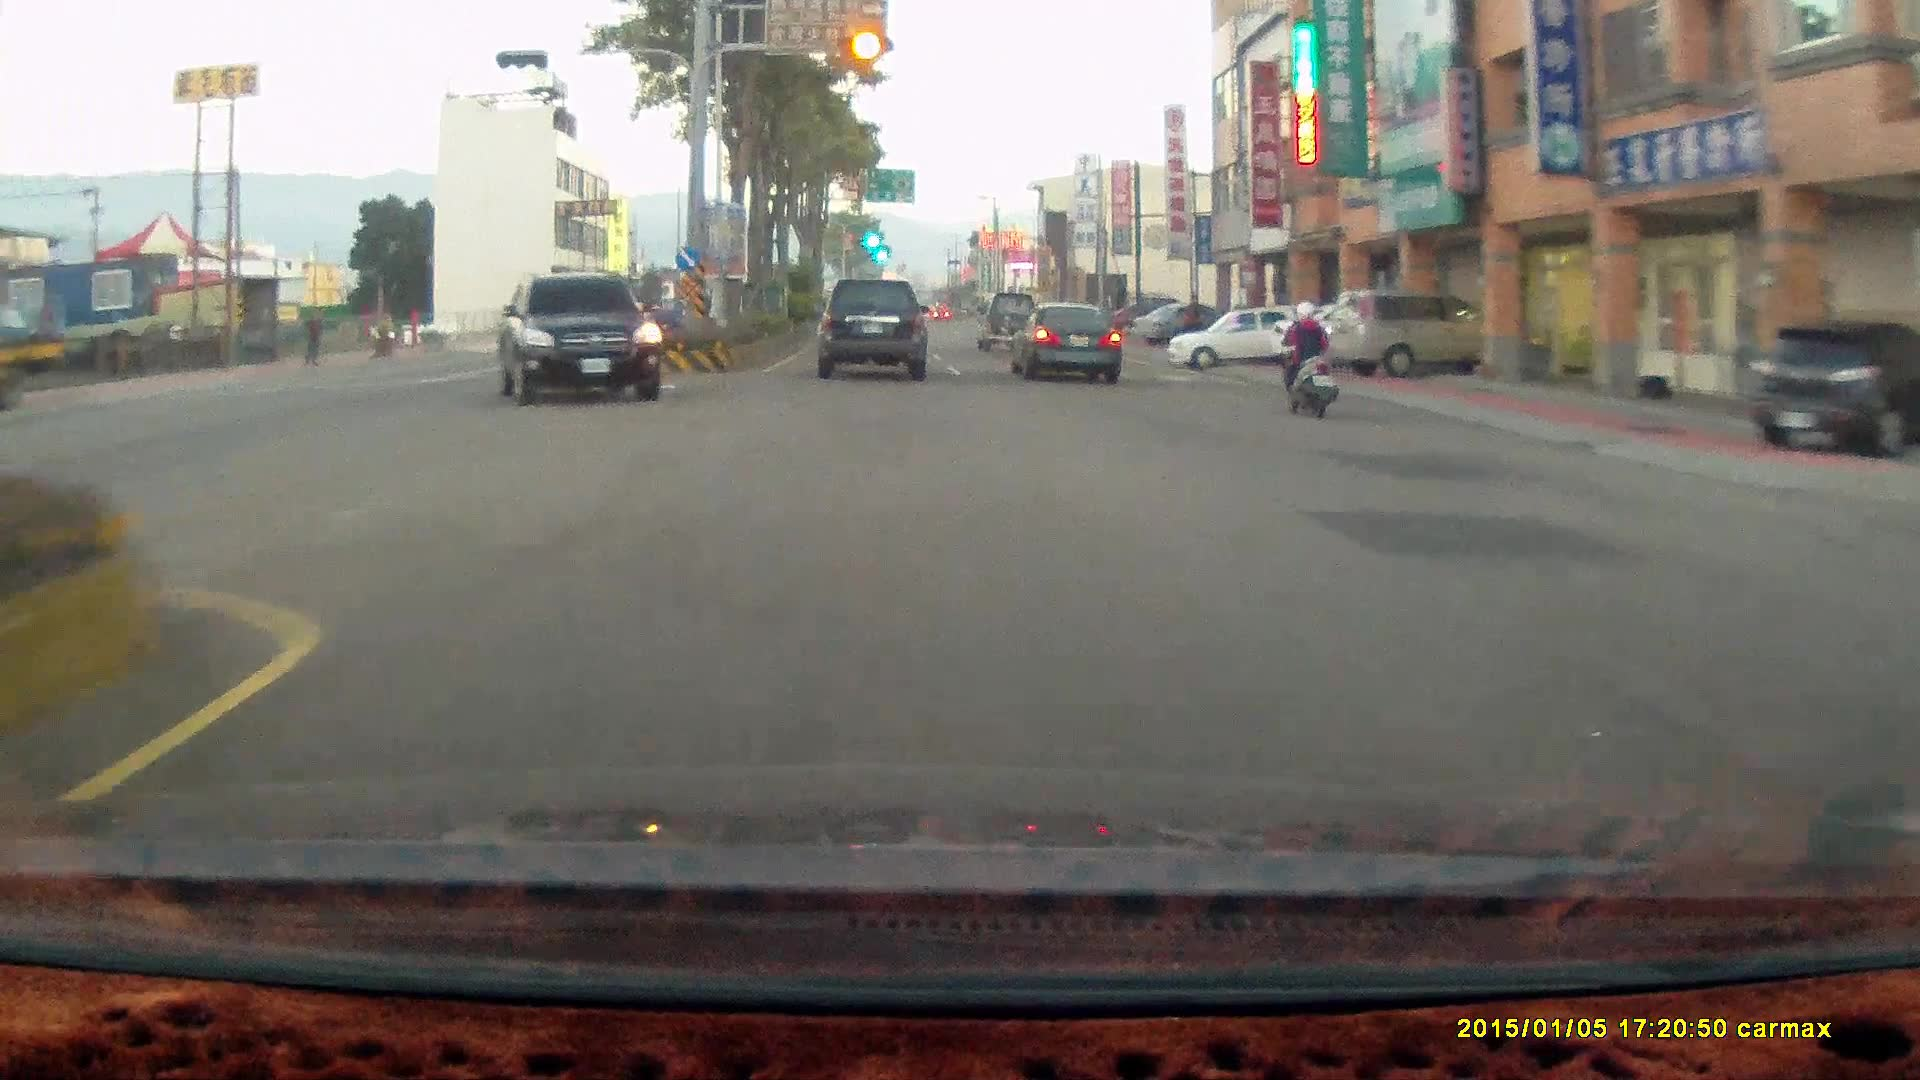pedestrian: (1180, 290, 1204, 348), (298, 306, 323, 360)
rider: (1266, 292, 1346, 422), (1275, 297, 1337, 415)
vehicle: (1741, 316, 1920, 459), (1744, 318, 1920, 461), (495, 271, 662, 404), (495, 271, 661, 403), (1329, 290, 1496, 381), (1328, 290, 1495, 380), (1275, 296, 1444, 370), (823, 274, 934, 378), (815, 276, 926, 380), (1170, 304, 1324, 374), (1164, 303, 1318, 370), (1008, 300, 1130, 382), (1007, 298, 1121, 381), (1133, 300, 1228, 344), (974, 290, 1042, 348)
